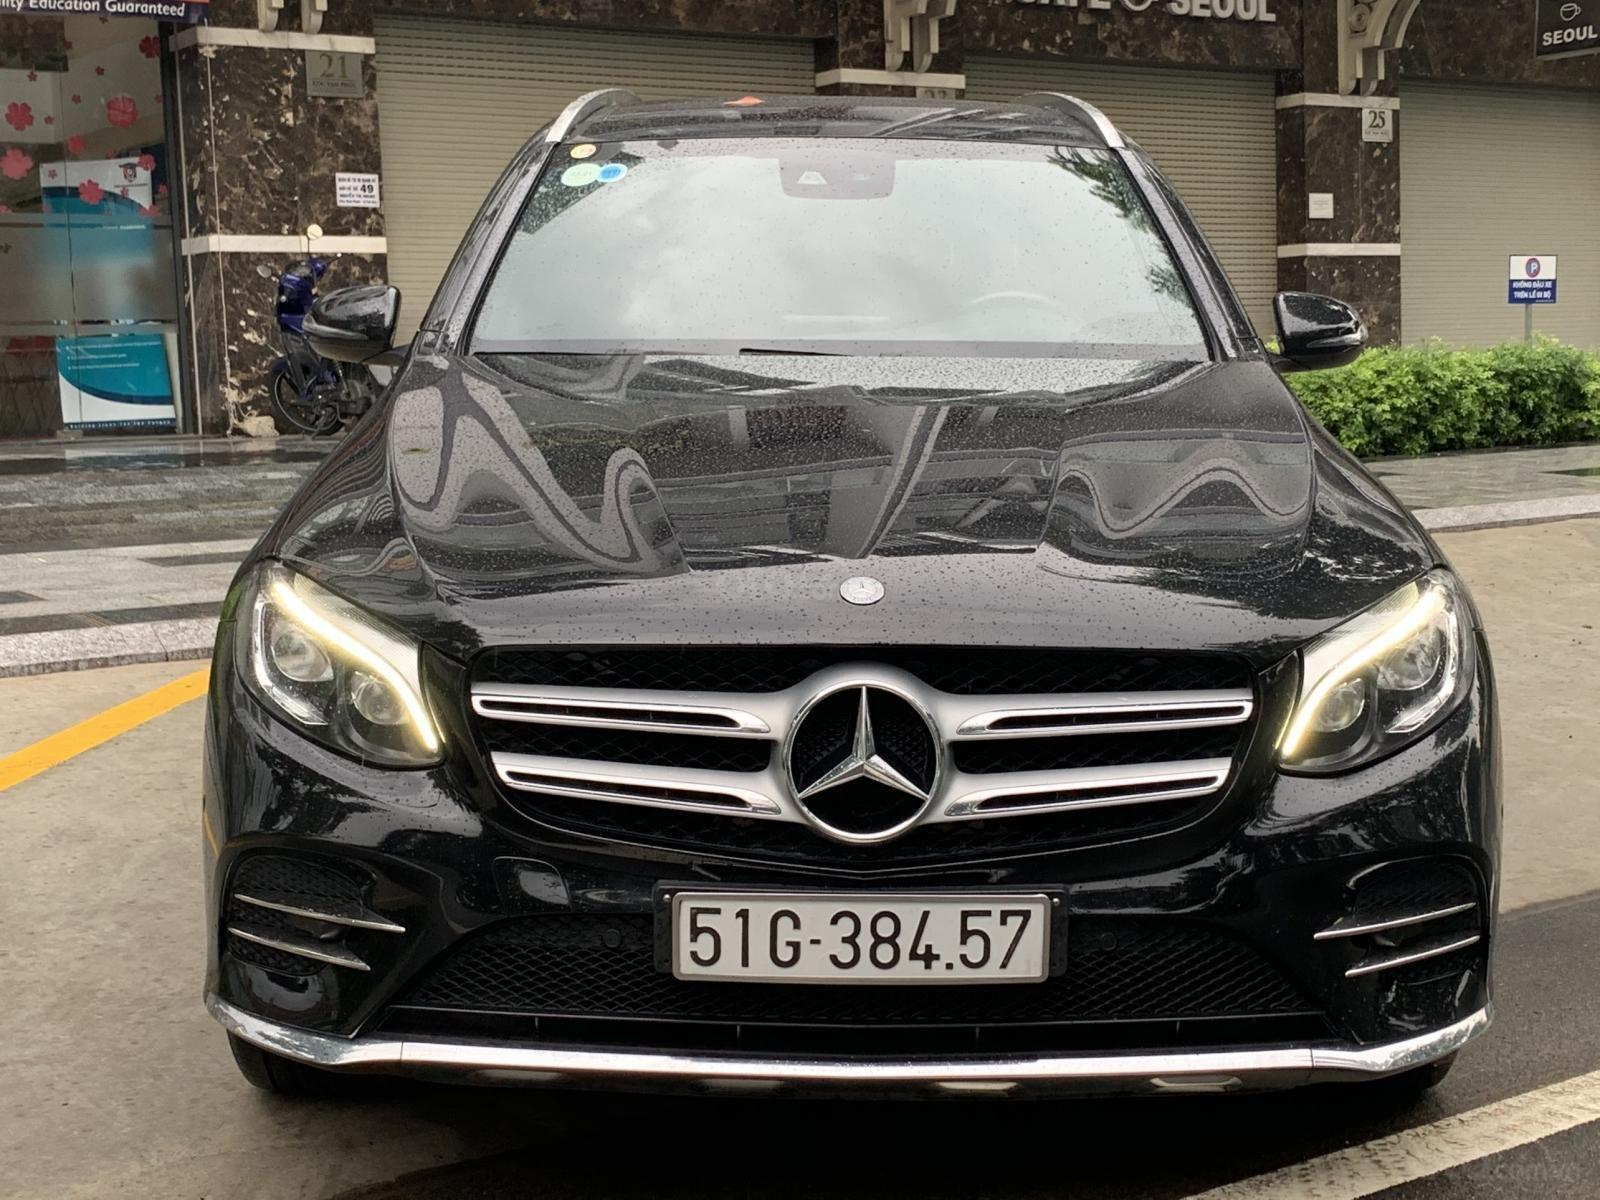numplate: (667, 884, 1049, 986)
